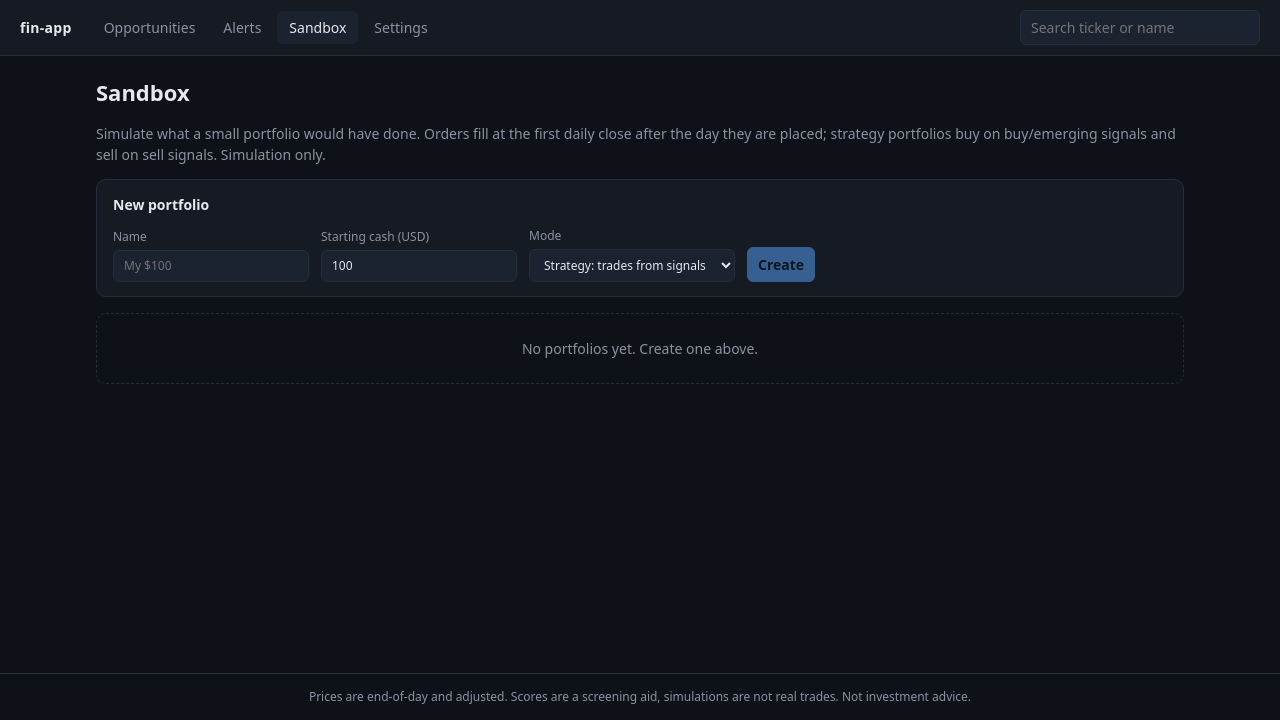
Test: shows the API's validation message when creating fails
The width and height of the screenshot is (1280, 720).
Type "x" into the field labelled "Name".
click(211, 266); type("x")  # box [113,250,309,282]
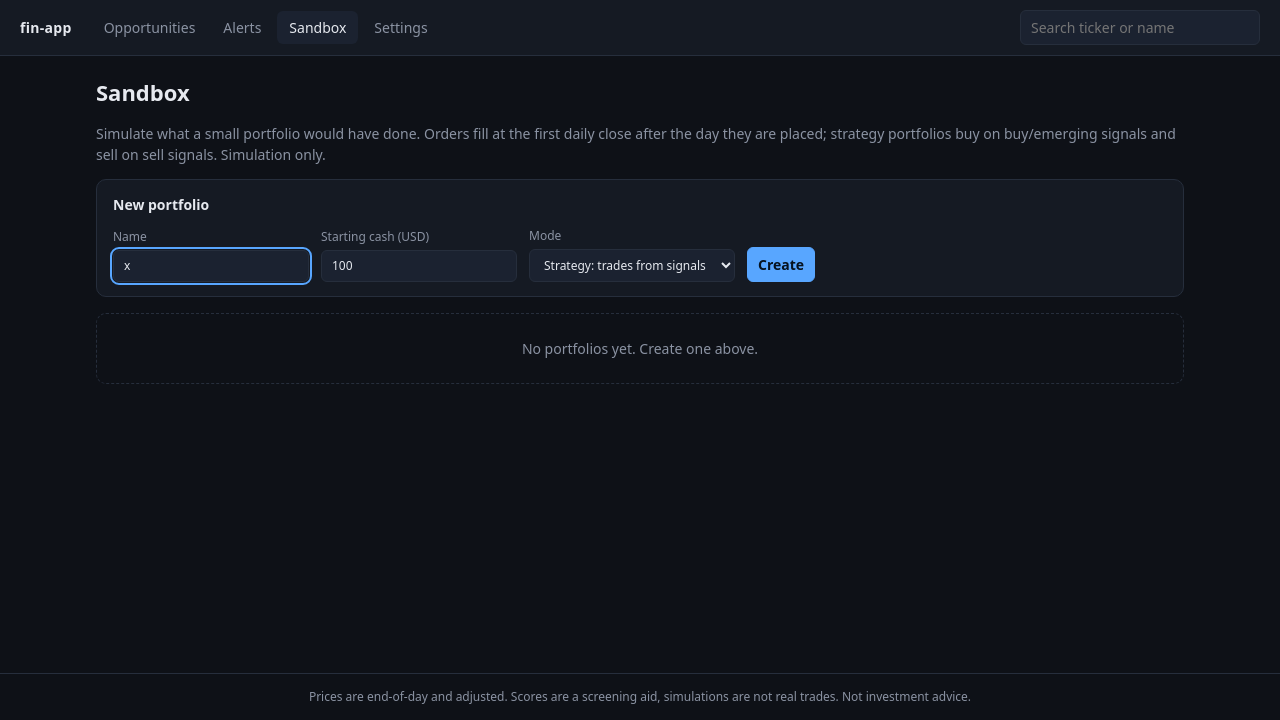
Click the button "Create".
click(781, 264)  # box [747,247,815,282]
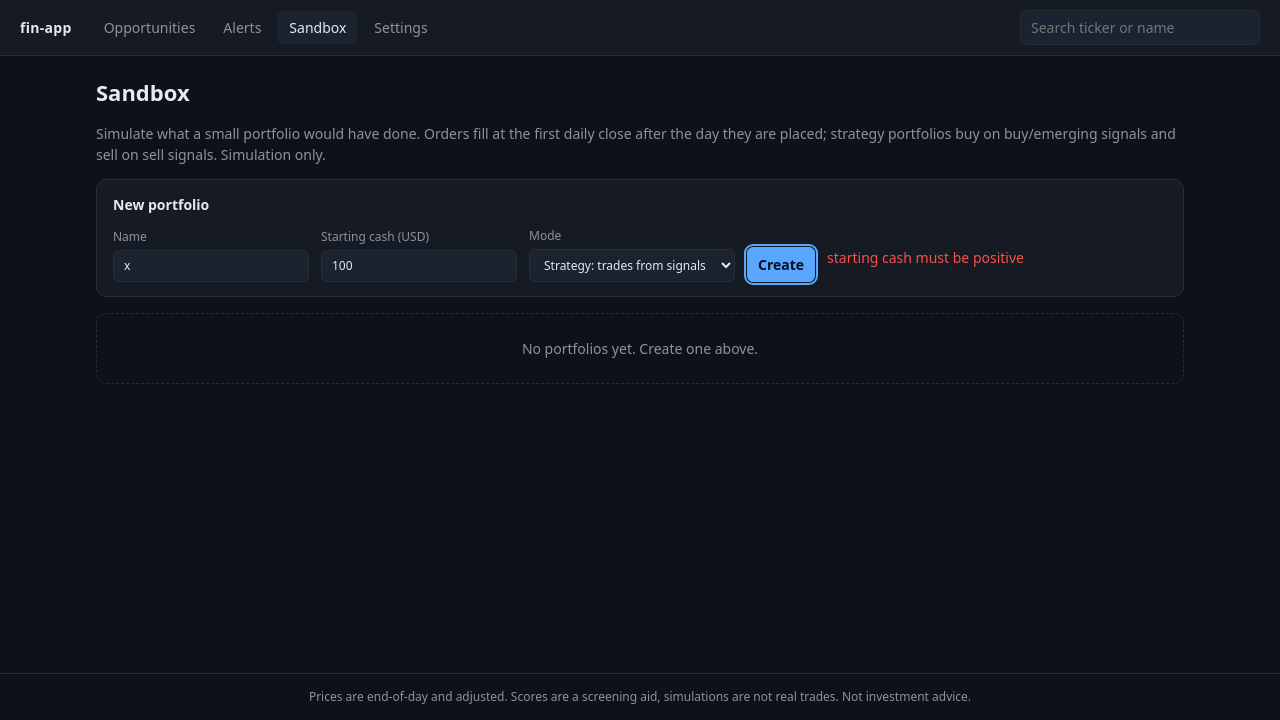
Now the message reads "starting cash must be positive", box [827,248,1024,267]
